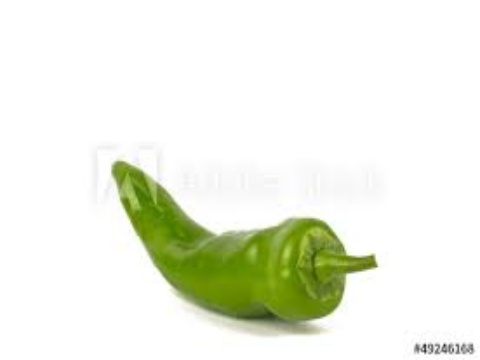Chilli: (94, 143, 399, 332)
